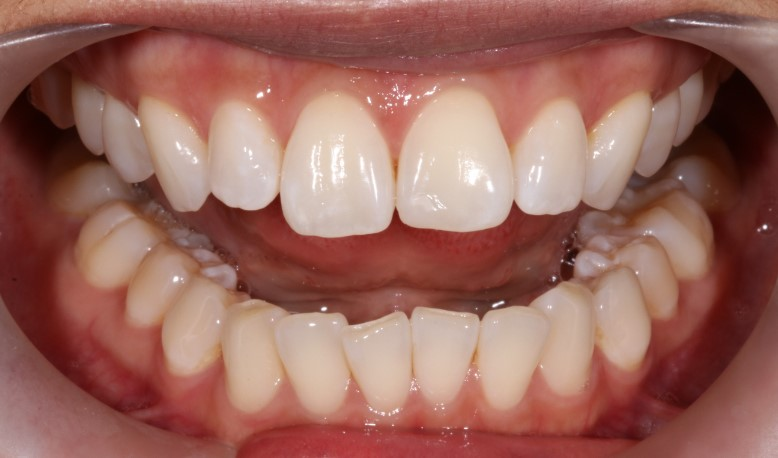LL1BC_healthy: (594, 267, 652, 375)
LL1M_healthy: (662, 191, 722, 286)
LL2BC_healthy: (628, 234, 684, 318)
LLCI_healthy: (413, 306, 477, 413)
LLC_healthy: (542, 285, 597, 399)
LLLI_healthy: (478, 304, 548, 408)
LR1BC_healthy: (173, 274, 227, 374)
LR1M_healthy: (78, 199, 156, 279)
LR2BC_healthy: (135, 243, 197, 329)
LRCI_healthy: (342, 309, 413, 414)
LRC_healthy: (223, 296, 280, 408)
LRLI_healthy: (274, 315, 350, 412)
UL1BC_healthy: (652, 89, 679, 174)
UL2BC_healthy: (678, 73, 702, 149)
ULCI_healthy: (397, 88, 516, 234)
ULC_healthy: (586, 92, 651, 211)
ULLI_healthy: (517, 99, 588, 214)
UR1BC_healthy: (102, 91, 152, 192)
UR1M_healthy: (30, 64, 72, 133)
UR2BC_healthy: (73, 80, 106, 156)
URCI_healthy: (282, 92, 396, 238)
URC_healthy: (138, 96, 210, 213)
URLI_healthy: (207, 102, 282, 210)
